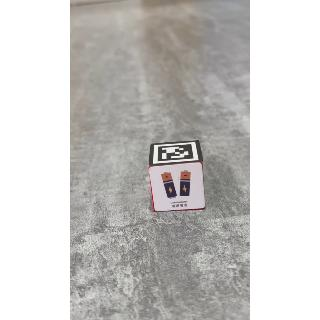Used_Battery: (149, 164, 206, 210)
